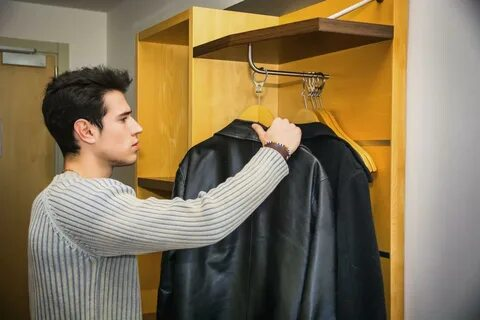awake: (25, 65, 239, 320)
